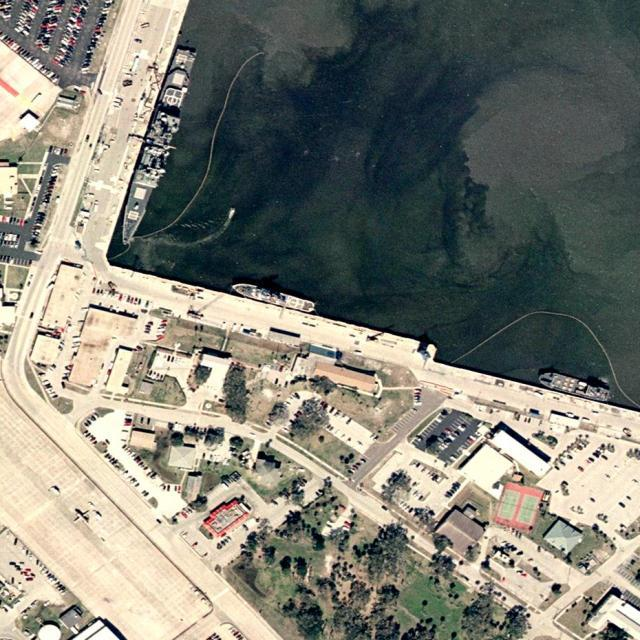Cruiser: (114, 48, 198, 248)
Other Ship: (536, 370, 612, 403)
Other Warship: (229, 280, 317, 314)
